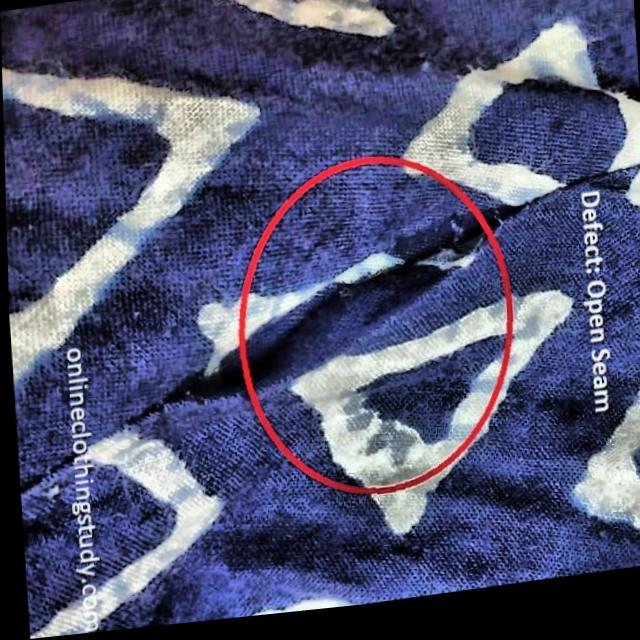seam: (121, 154, 583, 447)
